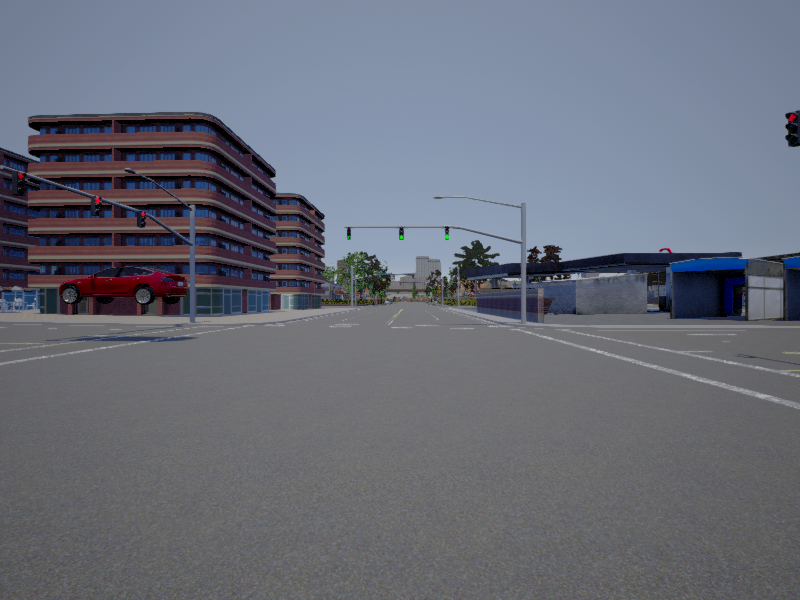Attacker: (64, 268, 187, 304)
